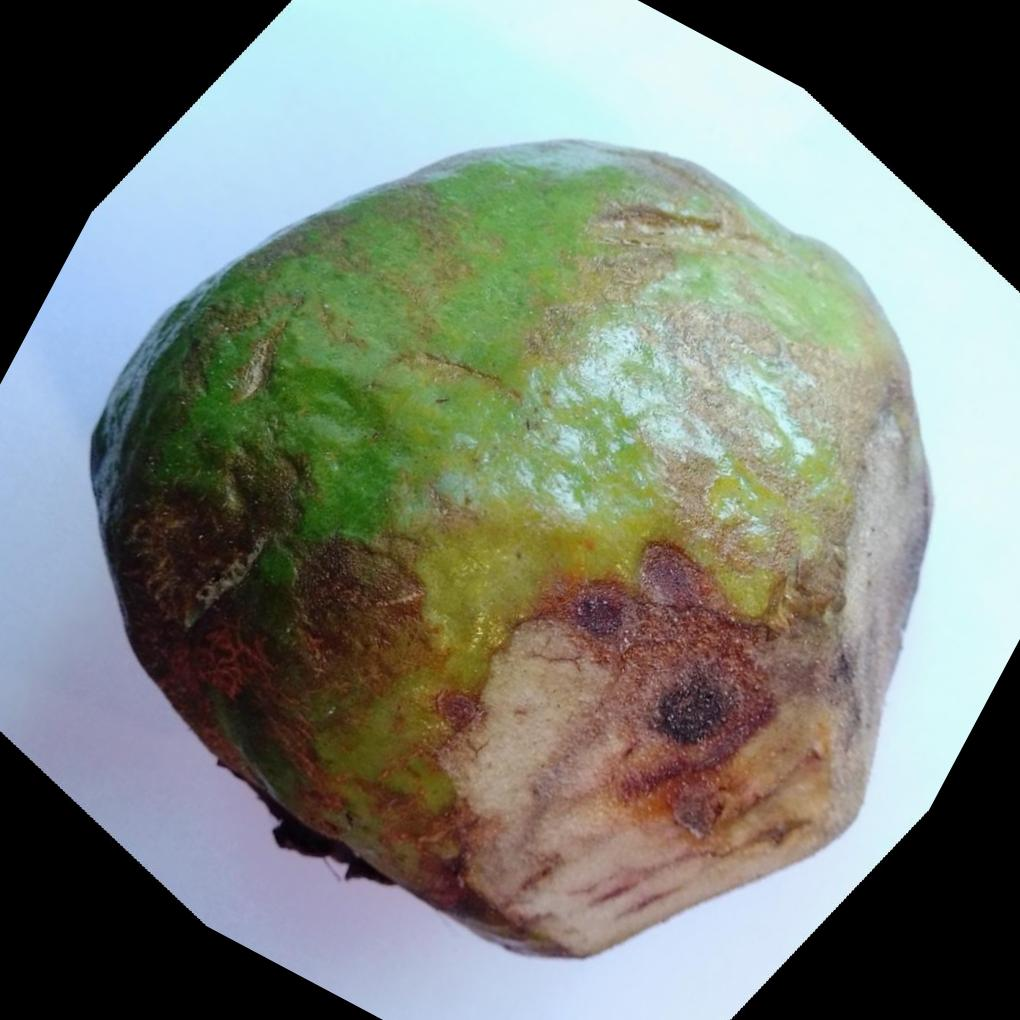FreshOrange: (85, 138, 933, 964)
